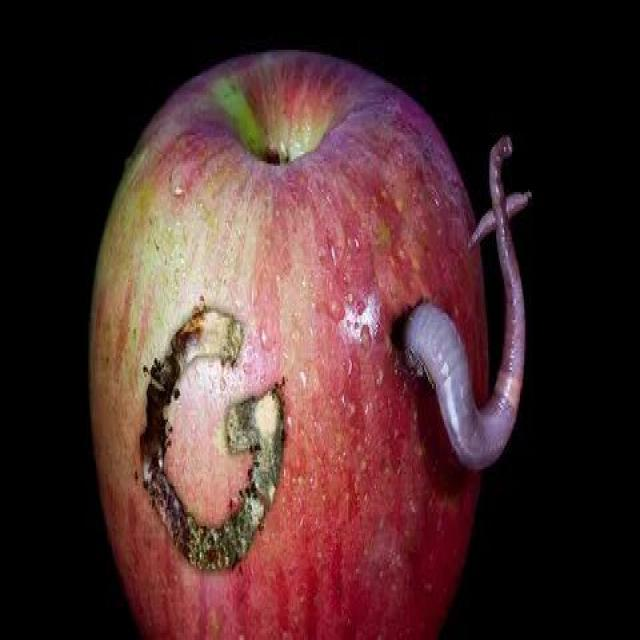Rotten: (113, 51, 514, 640)
